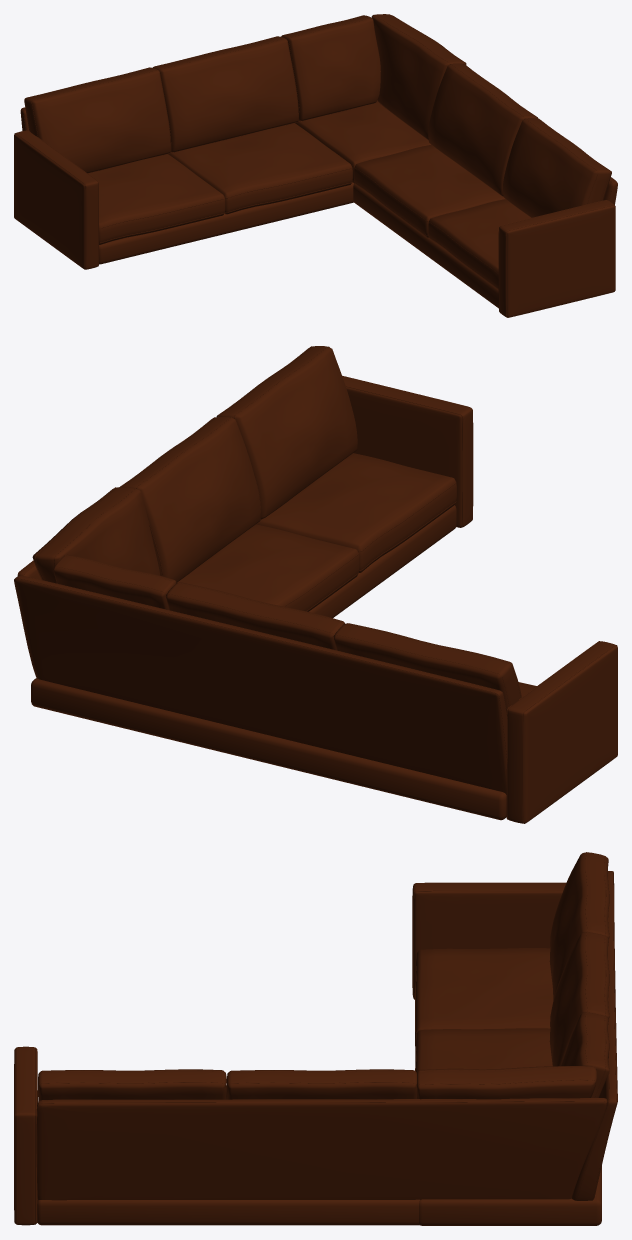
The model's file is مبل_aqvui3G.fbx.
3 renders of one model, top to bottom at view 1: azimuth 30°, elevation 25°; view 2: azimuth 150°, elevation 25°; view 3: azimuth 270°, elevation 25°, orthographic. The views are drawn at different scales.
Visible parts, largest first — view 1: ChamferBox003; view 2: ChamferBox003; view 3: ChamferBox003.
Boxes of the visible parts, x1,y1,x2,y2 form: ChamferBox003: (14, 14, 617, 317); ChamferBox003: (14, 346, 617, 823); ChamferBox003: (14, 852, 617, 1225).
Bounding box in the file's own units: 1236 × 359 × 1302.
